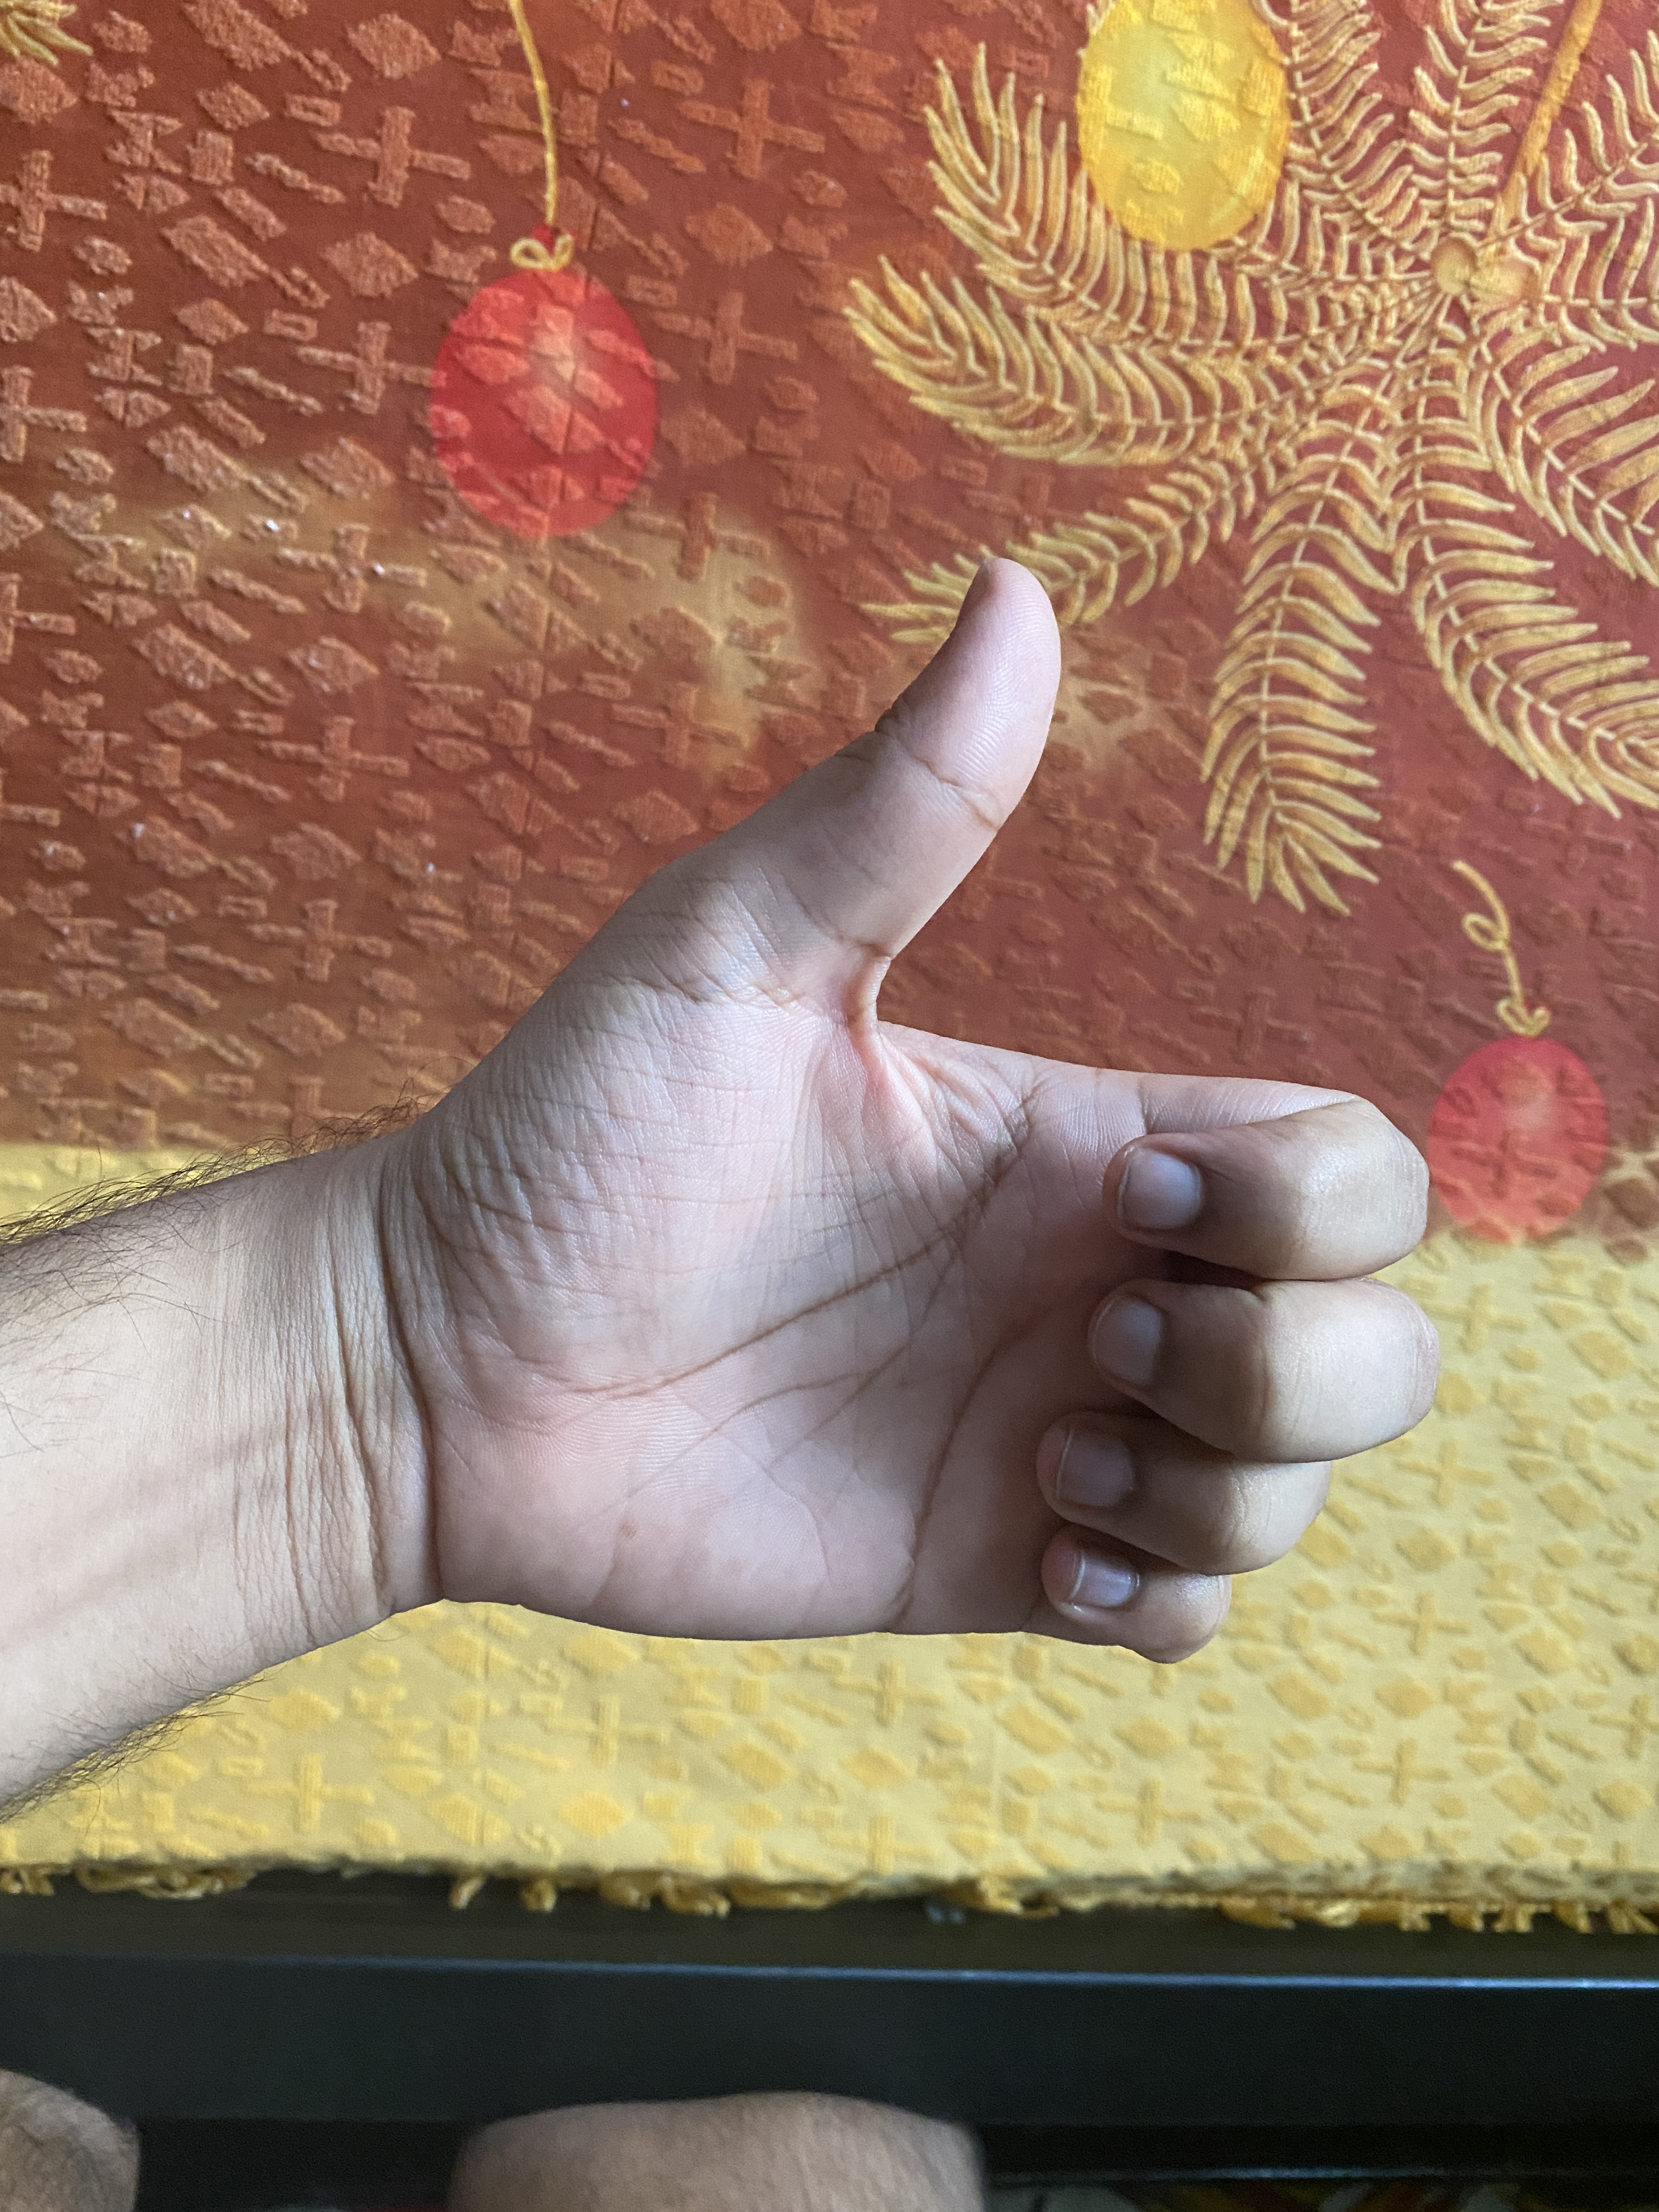up: (17, 538, 1565, 1872)
